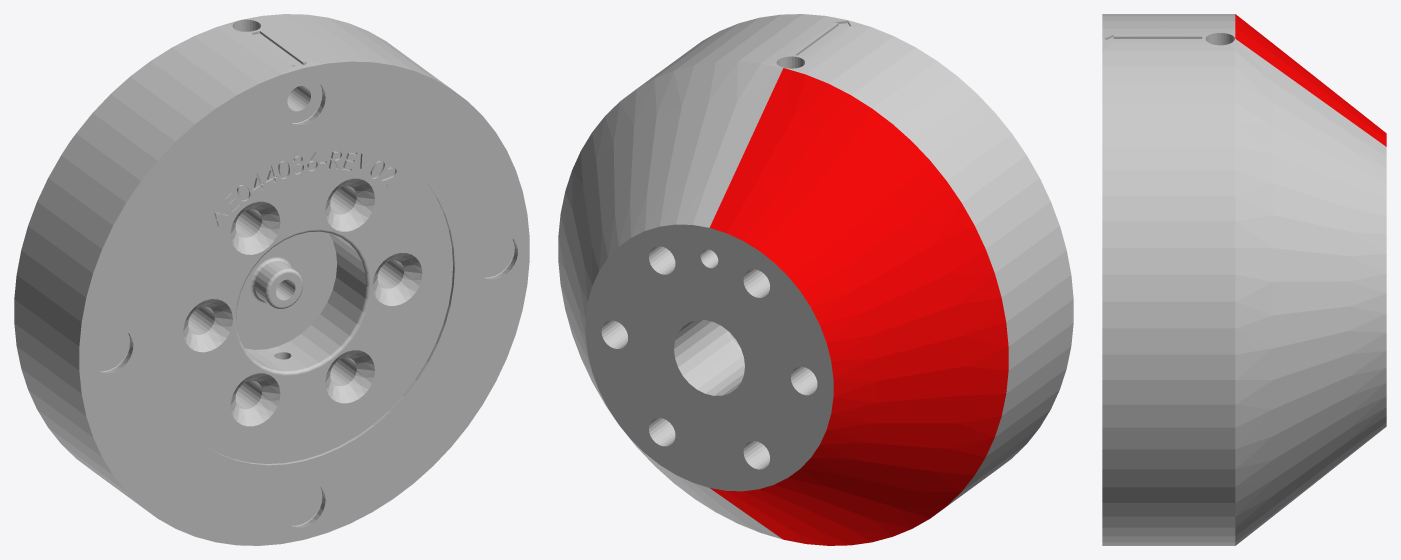
File: AE044036_STEP_56.obj
3 views of the same model, side by side, from view 1: azimuth 30°, elevation 25°; view 2: azimuth 150°, elevation 25°; view 3: azimuth 270°, elevation 25° (orthographic). The views are drawn at different scales.
Parts seen in each view (by area): view 1: Object1; view 2: Object1; view 3: Object1.
Boxes of the visible parts, x1,y1,x2,y2 form: Object1: [14, 14, 529, 545]; Object1: [558, 14, 1073, 545]; Object1: [1102, 14, 1386, 545].
Size of the model in its own units: 76.1 by 76.2 by 40.69.
